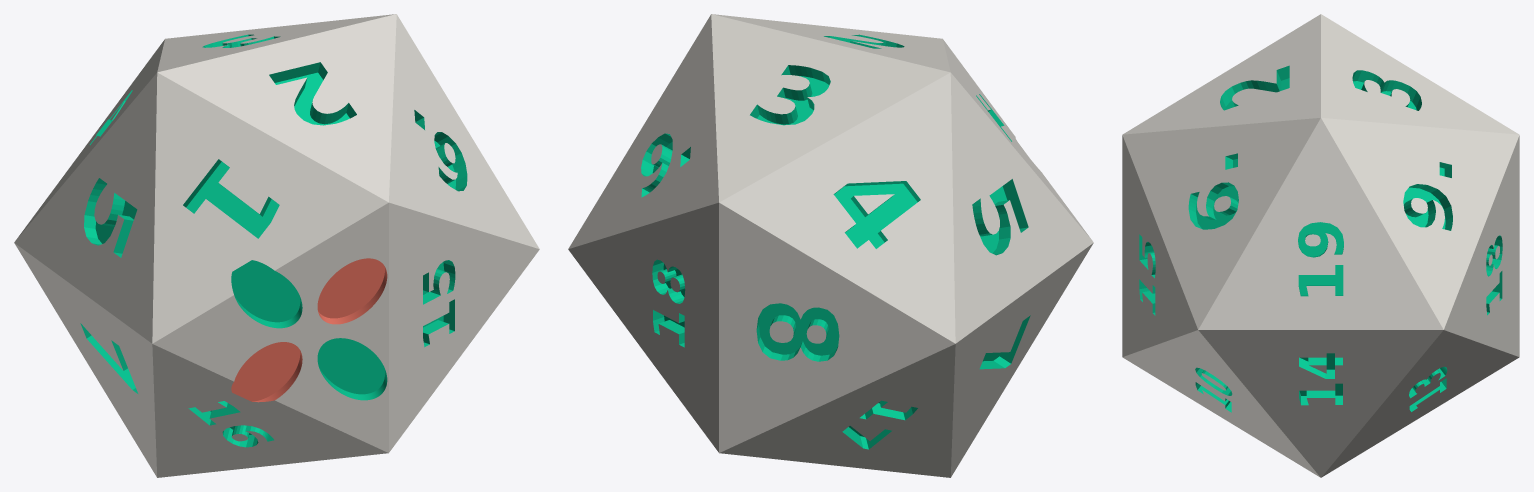
Rendered from d20-lauburu.glb.
The picture shows the model from 3 angles, left to right: view 1: azimuth 30°, elevation 25°; view 2: azimuth 150°, elevation 25°; view 3: azimuth 270°, elevation 25°; orthographic projection. The views are drawn at different scales.
Parts seen in each view (by area): view 1: cuerpo, numeros, lauburu; view 2: cuerpo, numeros; view 3: cuerpo, numeros.
Boxes of the visible parts, bbox=[...] form: cuerpo: bbox=[14, 14, 539, 477]; numeros: bbox=[80, 34, 467, 447]; lauburu: bbox=[231, 258, 387, 402]; cuerpo: bbox=[568, 14, 1093, 477]; numeros: bbox=[641, 34, 1030, 449]; cuerpo: bbox=[1122, 14, 1519, 477]; numeros: bbox=[1139, 65, 1502, 412].
Bounding box in the file's own units: 1.7 × 1.7 × 1.7.
